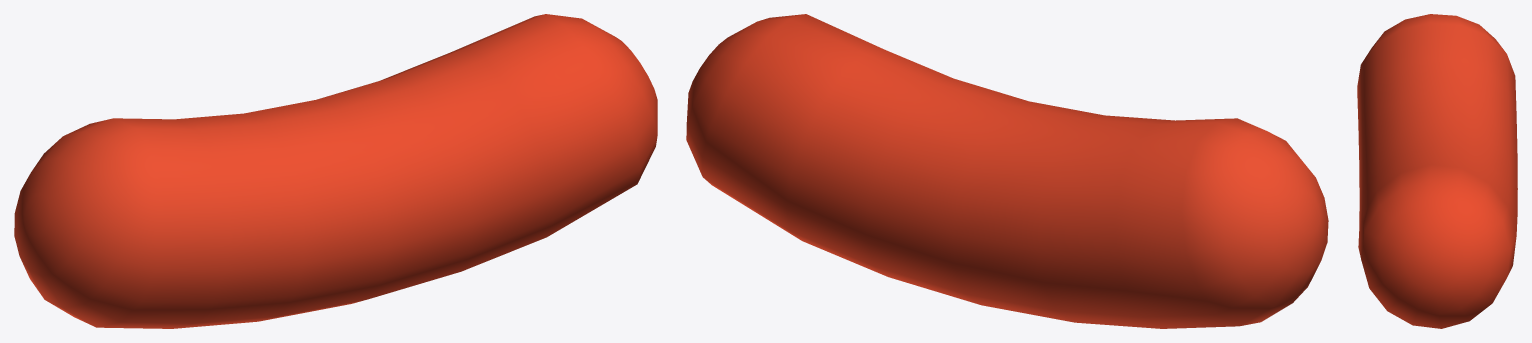
Rendered from Sausage.fbx.
3 renders of one model, left to right at view 1: azimuth 30°, elevation 25°; view 2: azimuth 150°, elevation 25°; view 3: azimuth 270°, elevation 25°, orthographic. The views are drawn at different scales.
Parts seen in each view (by area): view 1: Sausage; view 2: Sausage; view 3: Sausage.
Part boxes in pixels (x1,y1,x2,y2): Sausage: (14, 14, 657, 328); Sausage: (686, 14, 1328, 328); Sausage: (1357, 14, 1517, 328).
Size of the model in its own units: 0.3374 by 0.116 by 0.1007.
